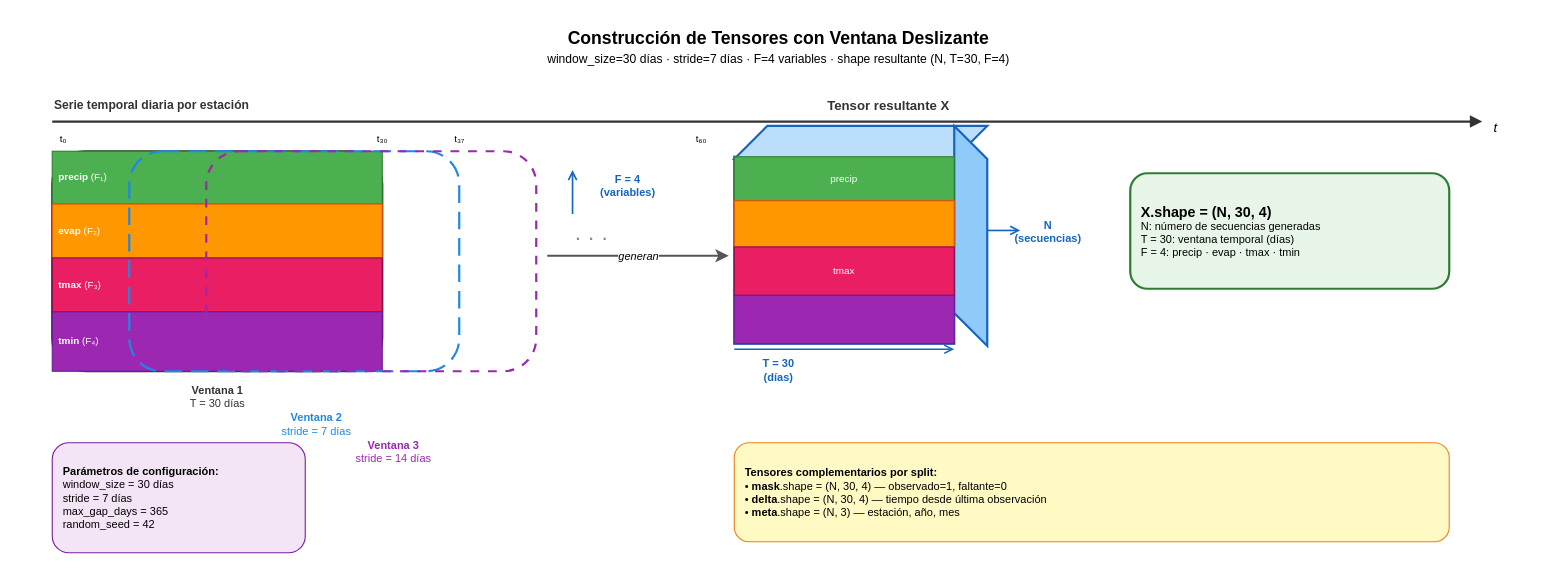
The diagram is 1555 pixels wide and 572 high, and some of its shapes have lost their labels. Each missing label, with the box of its shape:
evap: (733, 200, 954, 247)
tmin: (733, 294, 954, 344)
